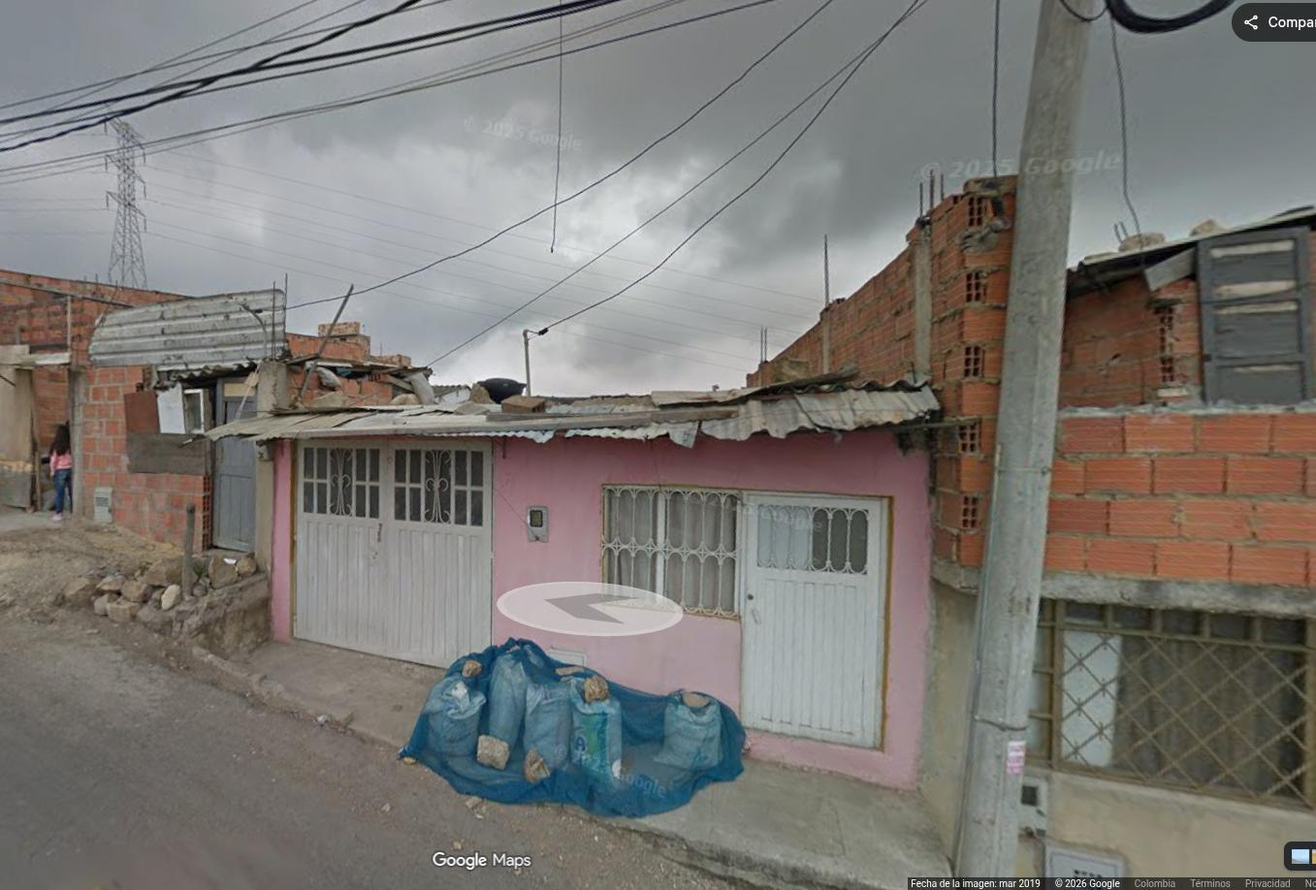casa: (272, 426, 930, 787)
poste: (956, 0, 1094, 875)
